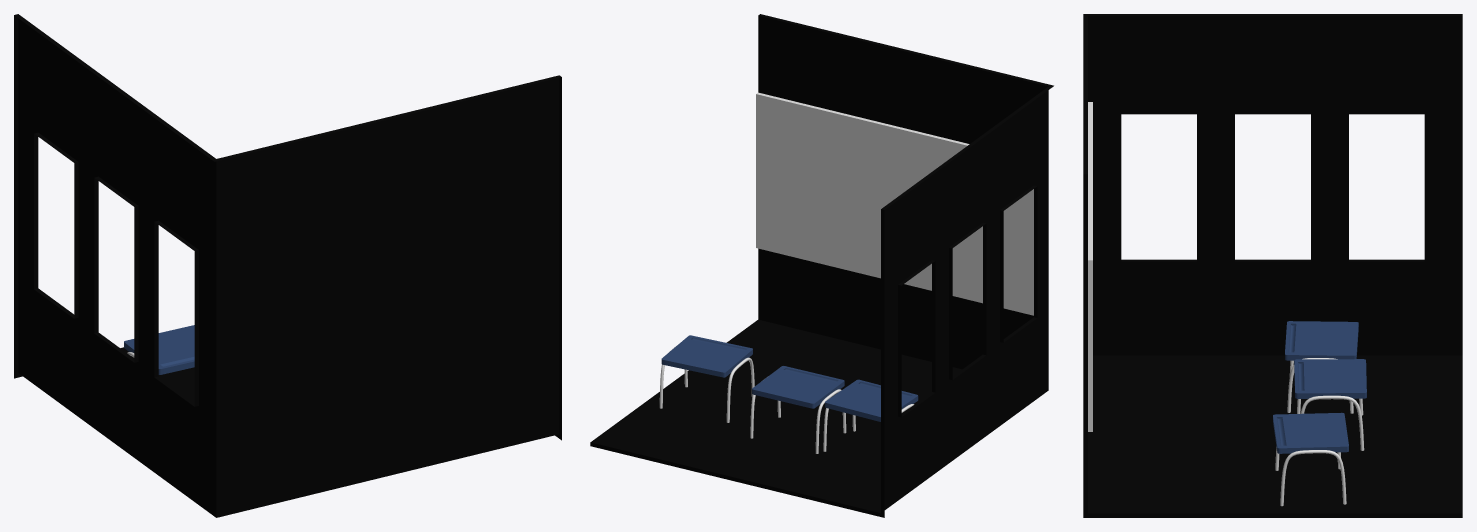
The picture shows the model from 3 angles, left to right: view 1: azimuth 30°, elevation 25°; view 2: azimuth 150°, elevation 25°; view 3: azimuth 270°, elevation 25°; orthographic projection. The views are drawn at different scales.
Parts seen in each view (by area): view 1: Base, Tables; view 2: Base, Board, Tables; view 3: Base, Tables, Board.
Part boxes in pixels (box(x1,y1,x2,y2)): Base: box(14, 14, 561, 517); Tables: box(124, 325, 194, 374); Base: box(590, 14, 1053, 517); Board: box(756, 92, 1033, 315); Tables: box(659, 335, 918, 453); Base: box(1083, 14, 1462, 517); Tables: box(1273, 321, 1366, 506); Board: box(1088, 102, 1092, 431).
Size of the model in its own units: 2 by 2 by 2.
